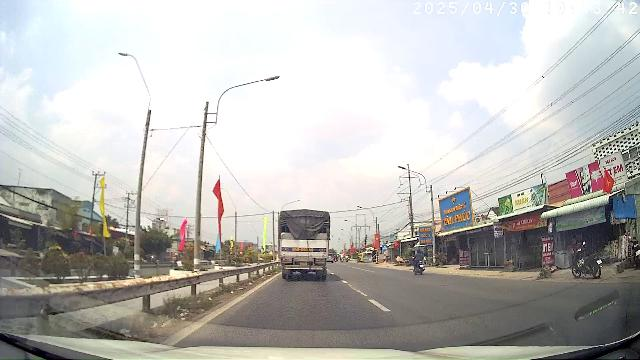423a-duong-nguoi-di-bo-sang-ngang-1: (382, 245, 388, 250)
